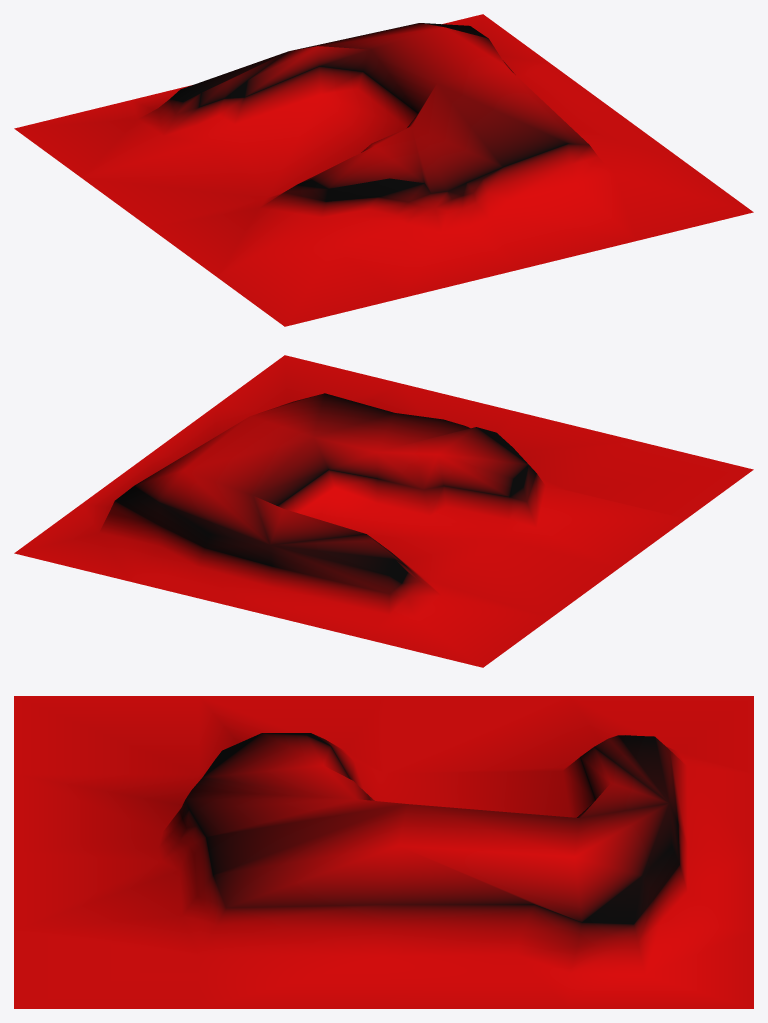
The model's file is GroundBottom01I 1M Background.fbx.
3 renders of one model, top to bottom at view 1: azimuth 30°, elevation 25°; view 2: azimuth 150°, elevation 25°; view 3: azimuth 270°, elevation 25°, orthographic. The views are drawn at different scales.
Visible parts, largest first — view 1: GroundBottom01I 1M Background; view 2: GroundBottom01I 1M Background; view 3: GroundBottom01I 1M Background.
Part boxes in pixels (x1,y1,x2,y2): GroundBottom01I 1M Background: [14, 14, 753, 326]; GroundBottom01I 1M Background: [14, 355, 753, 667]; GroundBottom01I 1M Background: [14, 696, 753, 1008].
Bounding box in the file's own units: 4 × 0.5514 × 4.
